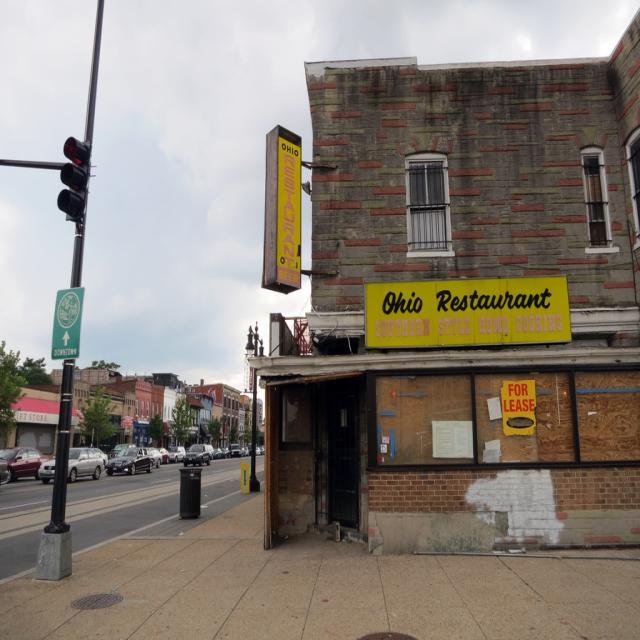traffic light: (56, 136, 90, 221)
